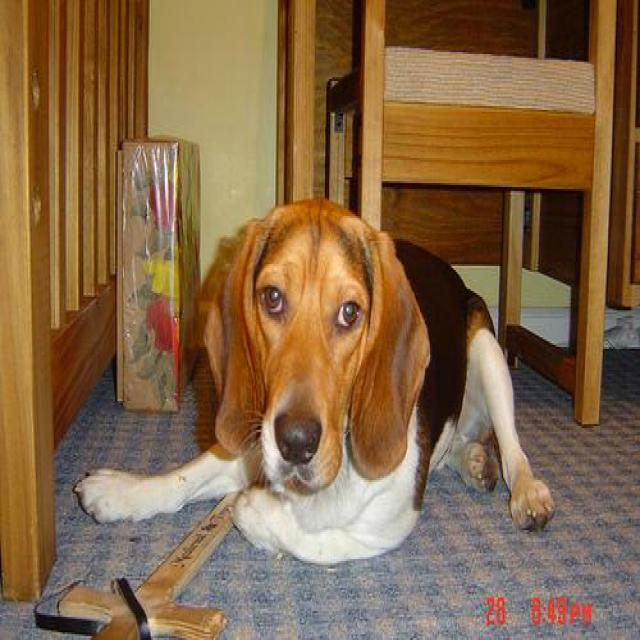beagle: (76, 204, 556, 568)
